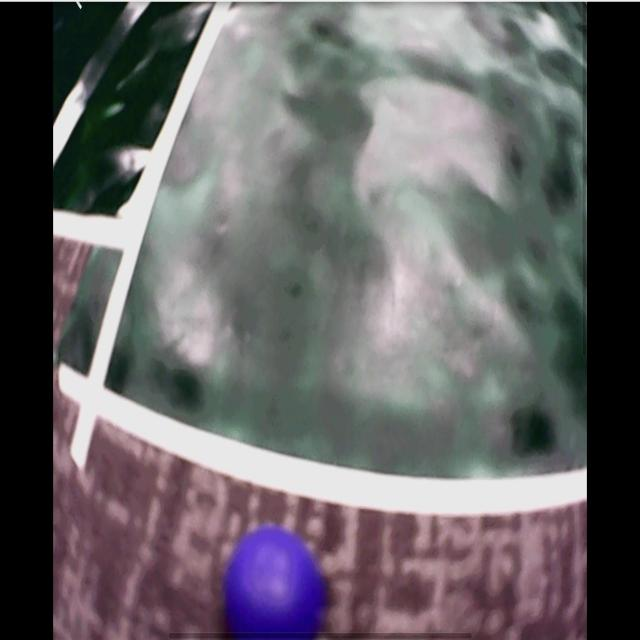ball: (226, 528, 322, 640)
